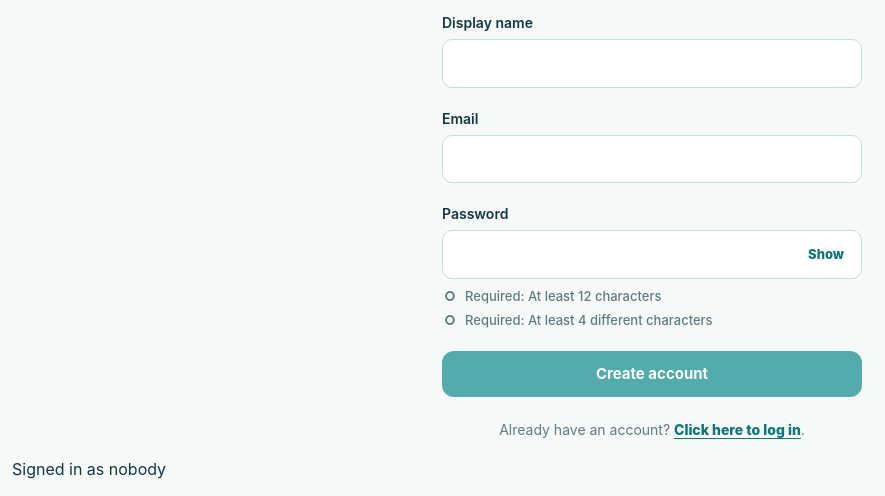
Test: Register — submission is disabled for invalid input › shows live accessible requirements without displaying a maximum
Check: the list item "Required: At least 12 characters" is shown, box [465,288,661,304]
Check: the list item "Required: At least 4 different characters" is shown, box [465,312,713,328]
Type "reefcare1234" into the password field labelled "Password" at (652, 254), box [442,230,862,278]
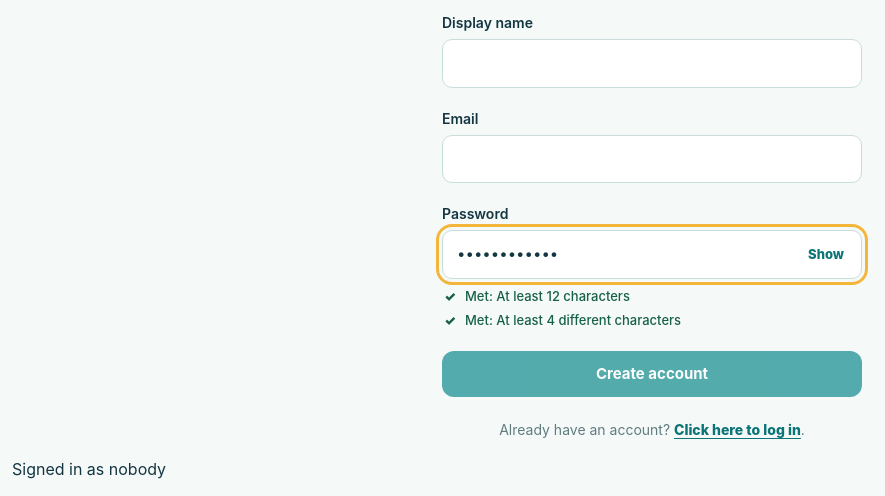
Check: the list item "Met: At least 12 characters" is shown, box [465,288,630,304]
Check: the list item "Met: At least 4 different characters" is shown, box [465,312,681,328]
